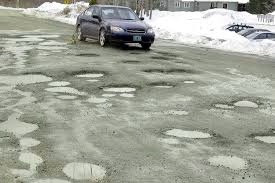pothole: (62, 159, 114, 179), (206, 149, 247, 171), (0, 115, 41, 133), (160, 128, 217, 140), (4, 46, 34, 64), (0, 71, 51, 81), (16, 87, 38, 107), (18, 149, 43, 165), (159, 106, 191, 118), (252, 131, 274, 147), (103, 83, 136, 93), (81, 94, 108, 104), (211, 101, 233, 113), (233, 97, 258, 107), (19, 137, 41, 147), (9, 168, 36, 176), (43, 86, 78, 92), (0, 36, 35, 42), (72, 71, 105, 77), (176, 77, 195, 85), (165, 66, 184, 74), (54, 94, 78, 100), (42, 40, 66, 46), (79, 50, 101, 56), (38, 32, 60, 38), (48, 80, 69, 86), (151, 82, 170, 88), (143, 67, 162, 73), (148, 55, 167, 61), (101, 93, 117, 97), (119, 93, 133, 97), (124, 60, 137, 64)
